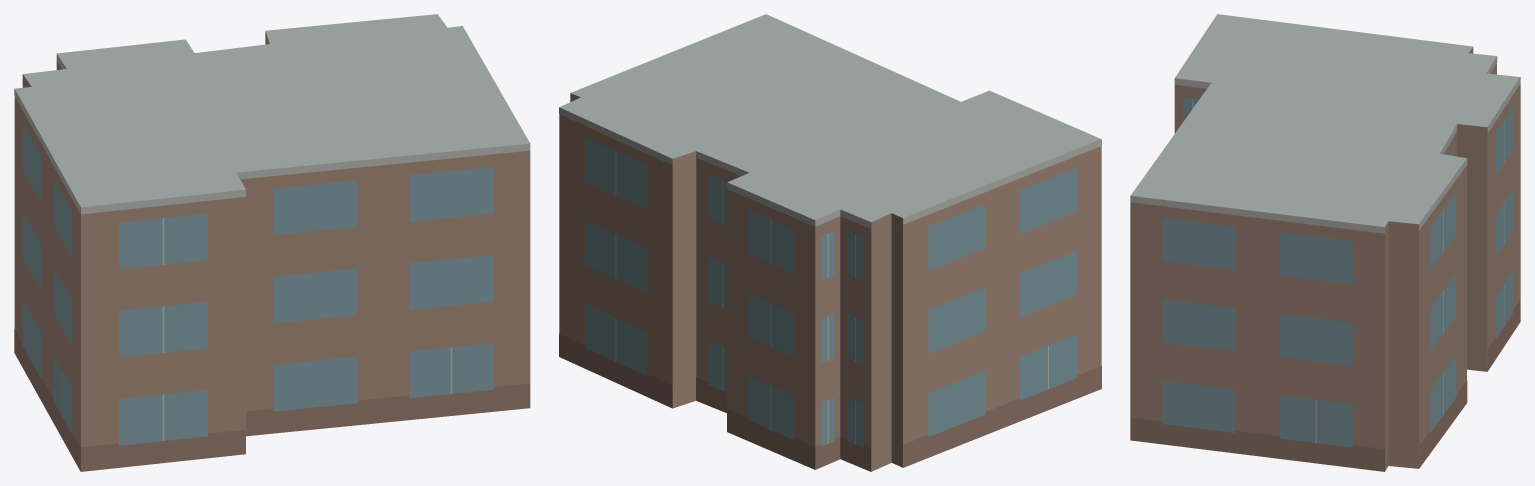
The model's file is survey-upis-33027066.glb.
3 views of the same model, side by side, from view 1: azimuth 30°, elevation 25°; view 2: azimuth 150°, elevation 25°; view 3: azimuth 270°, elevation 25° (orthographic). The views are drawn at different scales.
Visible parts, largest first — view 1: survey-upis-33027066.tmp; view 2: survey-upis-33027066.tmp; view 3: survey-upis-33027066.tmp.
Part boxes in pixels (x1,y1,x2,y2): survey-upis-33027066.tmp: (14, 14, 530, 471); survey-upis-33027066.tmp: (559, 14, 1101, 471); survey-upis-33027066.tmp: (1130, 14, 1520, 471).
Size of the model in its own units: 17.12 by 9.15 by 13.23.
